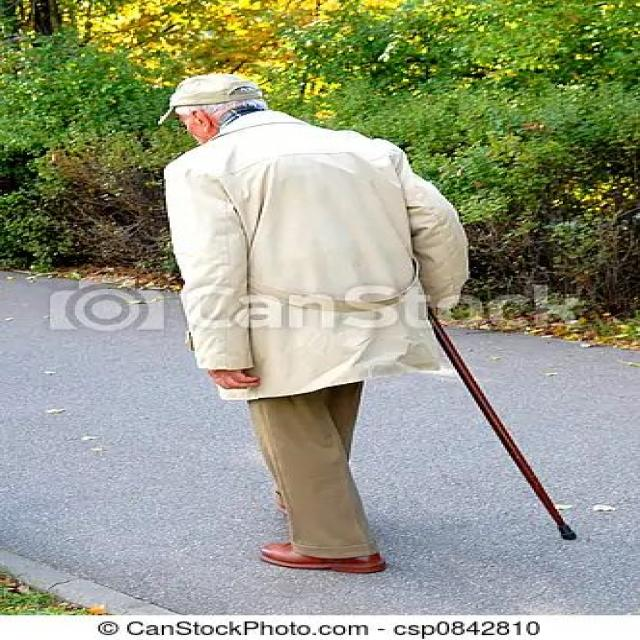idoso em pe: (126, 59, 472, 578)
